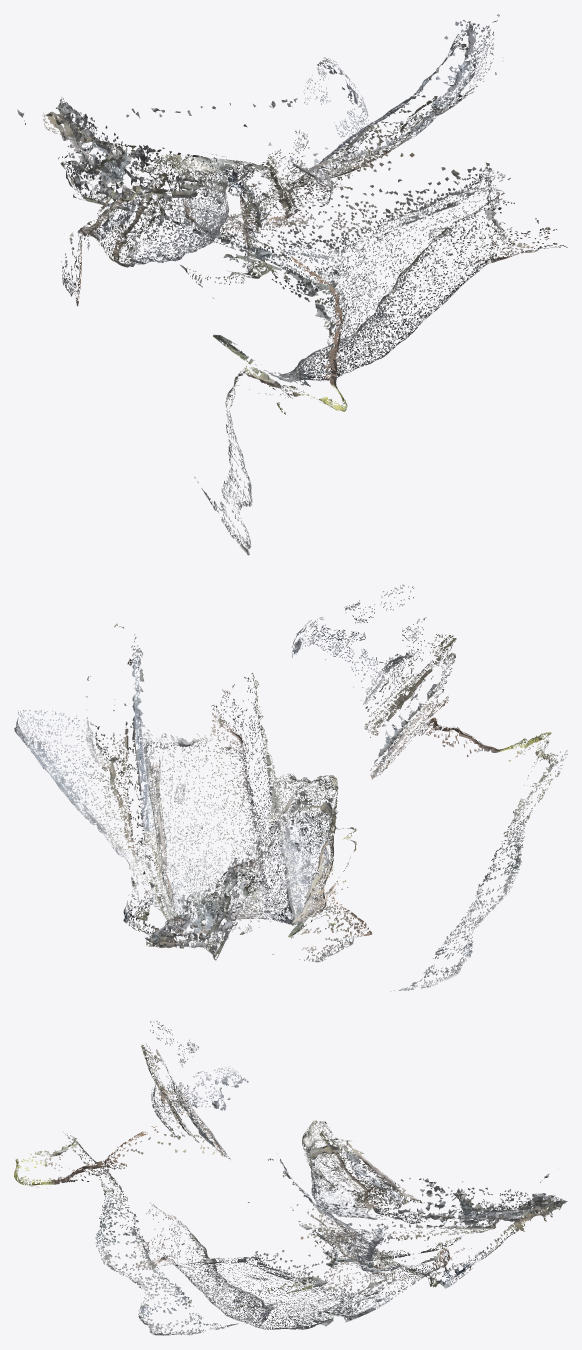
3 renders of one model, top to bottom at view 1: azimuth 30°, elevation 25°; view 2: azimuth 150°, elevation 25°; view 3: azimuth 270°, elevation 25°, orthographic. The views are drawn at different scales.
Visible parts, largest first — view 1: geometry_0; view 2: geometry_0; view 3: geometry_0.
Part boxes in pixels (left/top/right/bottom): geometry_0: left=17, top=14, right=567, bottom=555; geometry_0: left=14, top=584, right=567, bottom=991; geometry_0: left=14, top=1021, right=567, bottom=1335.
Bounding box in the file's own units: 1.96 × 1.87 × 2.79.
